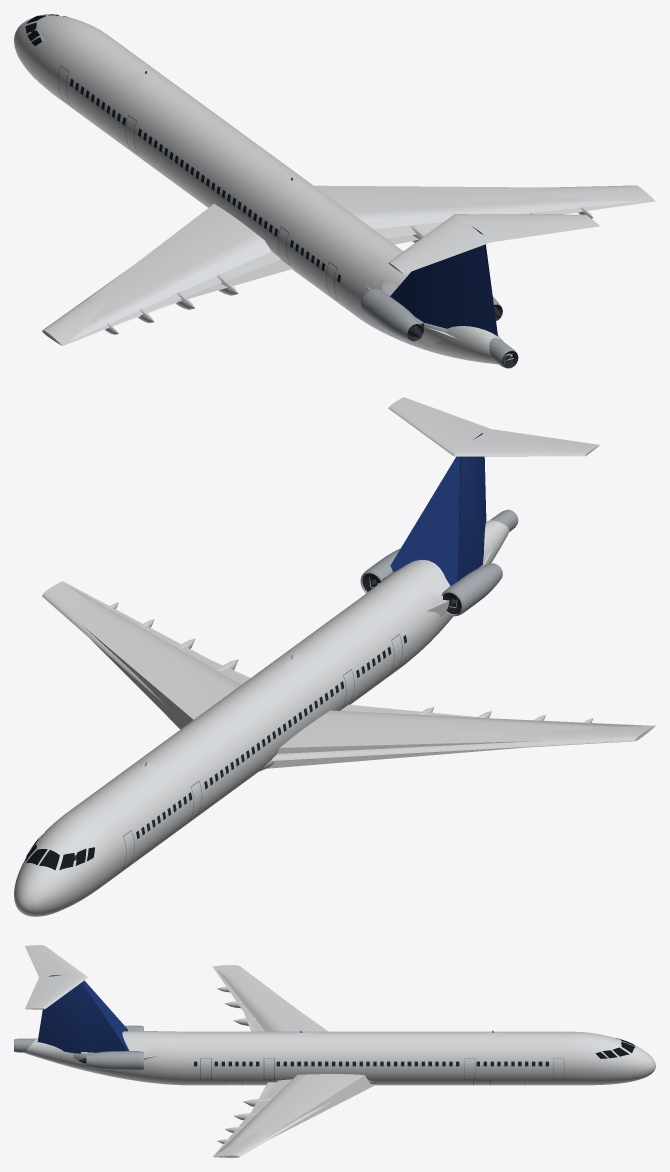
Rendered from lat_trijet_rear.dae.
The picture shows the model from 3 angles, top to bottom: view 1: azimuth 30°, elevation 25°; view 2: azimuth 150°, elevation 25°; view 3: azimuth 270°, elevation 25°; orthographic projection. The views are drawn at different scales.
Parts seen in each view (by area): view 1: lat_trijet_rear150, lat_trijet_rear32, lat_trijet_rear1; view 2: lat_trijet_rear150, lat_trijet_rear32, lat_trijet_rear1; view 3: lat_trijet_rear150, lat_trijet_rear32, lat_trijet_rear1.
Boxes of the visible parts, x1,y1,x2,y2 form: lat_trijet_rear150: [14, 14, 655, 368]; lat_trijet_rear32: [27, 15, 642, 366]; lat_trijet_rear1: [164, 226, 514, 360]; lat_trijet_rear150: [14, 397, 655, 916]; lat_trijet_rear32: [27, 553, 640, 870]; lat_trijet_rear1: [211, 433, 492, 718]; lat_trijet_rear150: [14, 945, 655, 1157]; lat_trijet_rear32: [73, 970, 631, 1153]; lat_trijet_rear1: [37, 975, 275, 1110].
Size of the model in its own units: 32.9 by 46.85 by 8.87.
